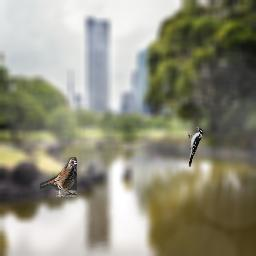Sparrow: (40, 157, 77, 197)
Woodpecker: (187, 127, 203, 167)
